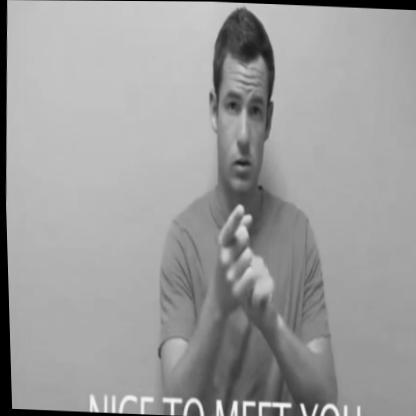NiceToMeetYou: (181, 188, 279, 346)
